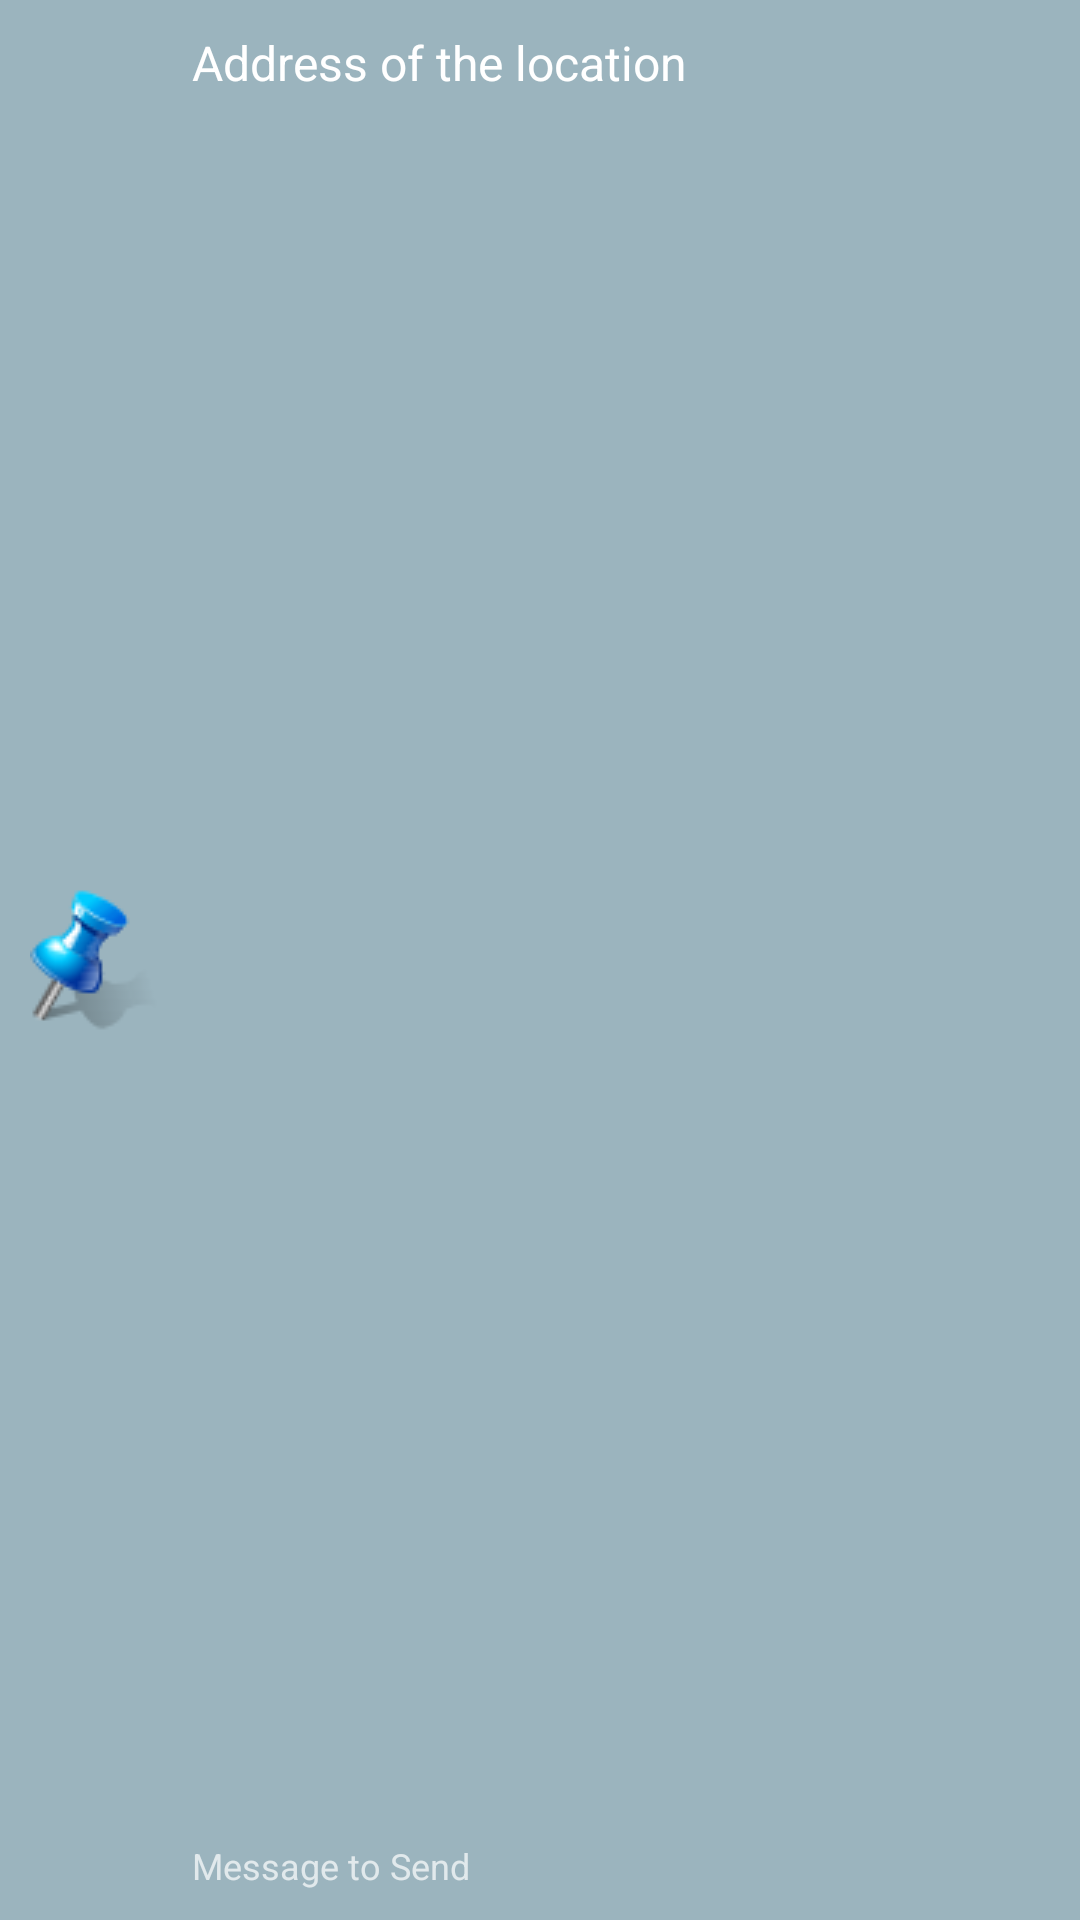

Icons on this 1080x1920 Android screen, each with the point to tap as point (x, y):
pin: point (79, 958)
